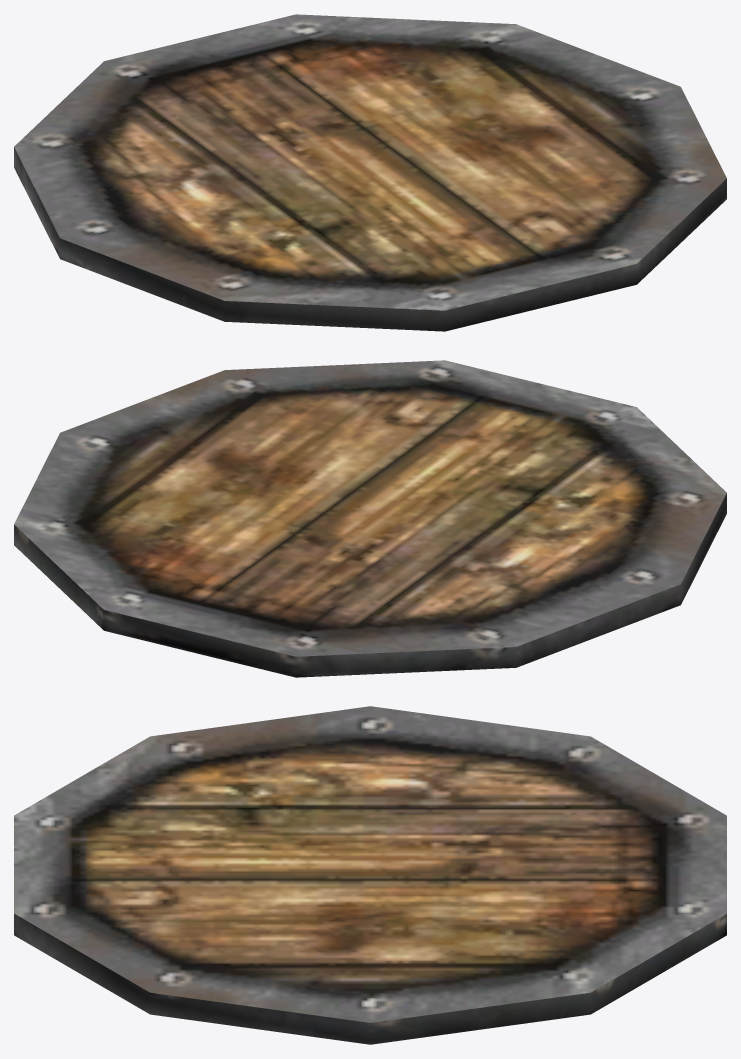
Rendered from msn.glb.
3 views of the same model, one above another, from view 1: azimuth 30°, elevation 25°; view 2: azimuth 150°, elevation 25°; view 3: azimuth 270°, elevation 25° (orthographic). The views are drawn at different scales.
Parts seen in each view (by area): view 1: msn-col; view 2: msn-col; view 3: msn-col.
Part boxes in pixels (<box>): msn-col: <box>14,14,726,331</box>; msn-col: <box>14,360,726,677</box>; msn-col: <box>14,706,726,1044</box>.
Bounding box in the file's own units: 0.5224 × 0.0786 × 0.4968.
1 material, 1 textured.
